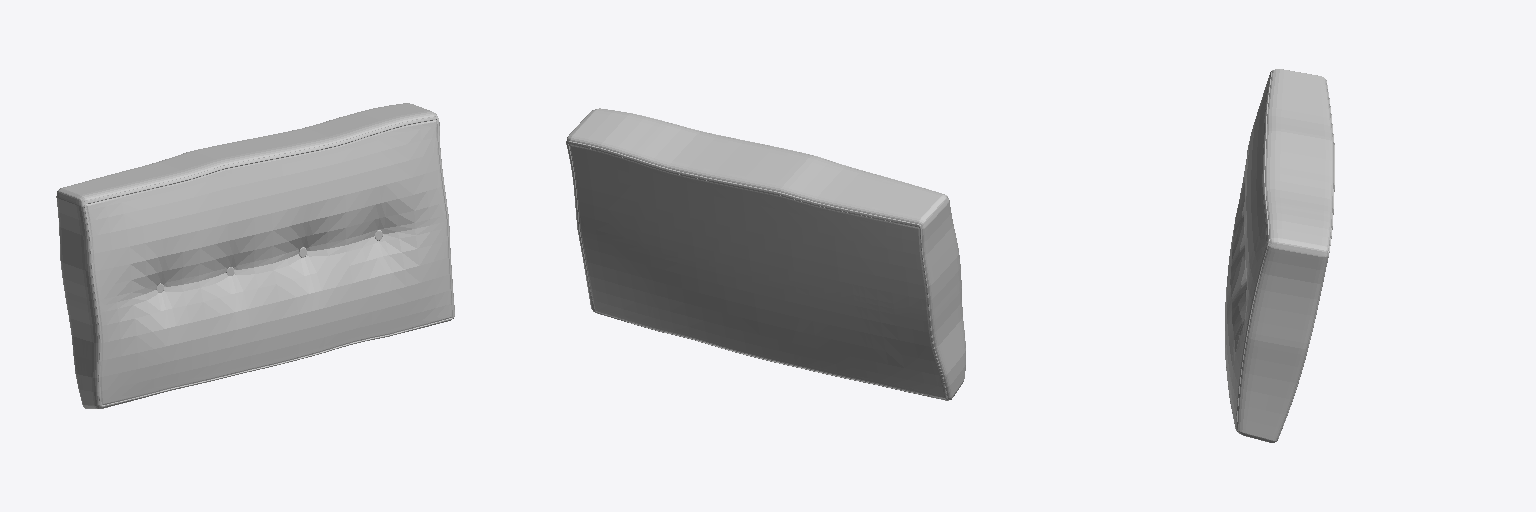
File: couch-pillow-left.obj
The picture shows the model from 3 angles: view 1: azimuth 30°, elevation 25°; view 2: azimuth 150°, elevation 25°; view 3: azimuth 270°, elevation 25°; orthographic projection.
Visible parts, largest first — view 1: 2_pillow_l_Untitled.002; view 2: 2_pillow_l_Untitled.002; view 3: 2_pillow_l_Untitled.002.
Boxes of the visible parts, x1,y1,x2,y2 form: 2_pillow_l_Untitled.002: [56, 103, 454, 408]; 2_pillow_l_Untitled.002: [566, 108, 965, 400]; 2_pillow_l_Untitled.002: [1225, 69, 1334, 442].
Size of the model in its own units: 2.28 by 1.29 by 0.6052.